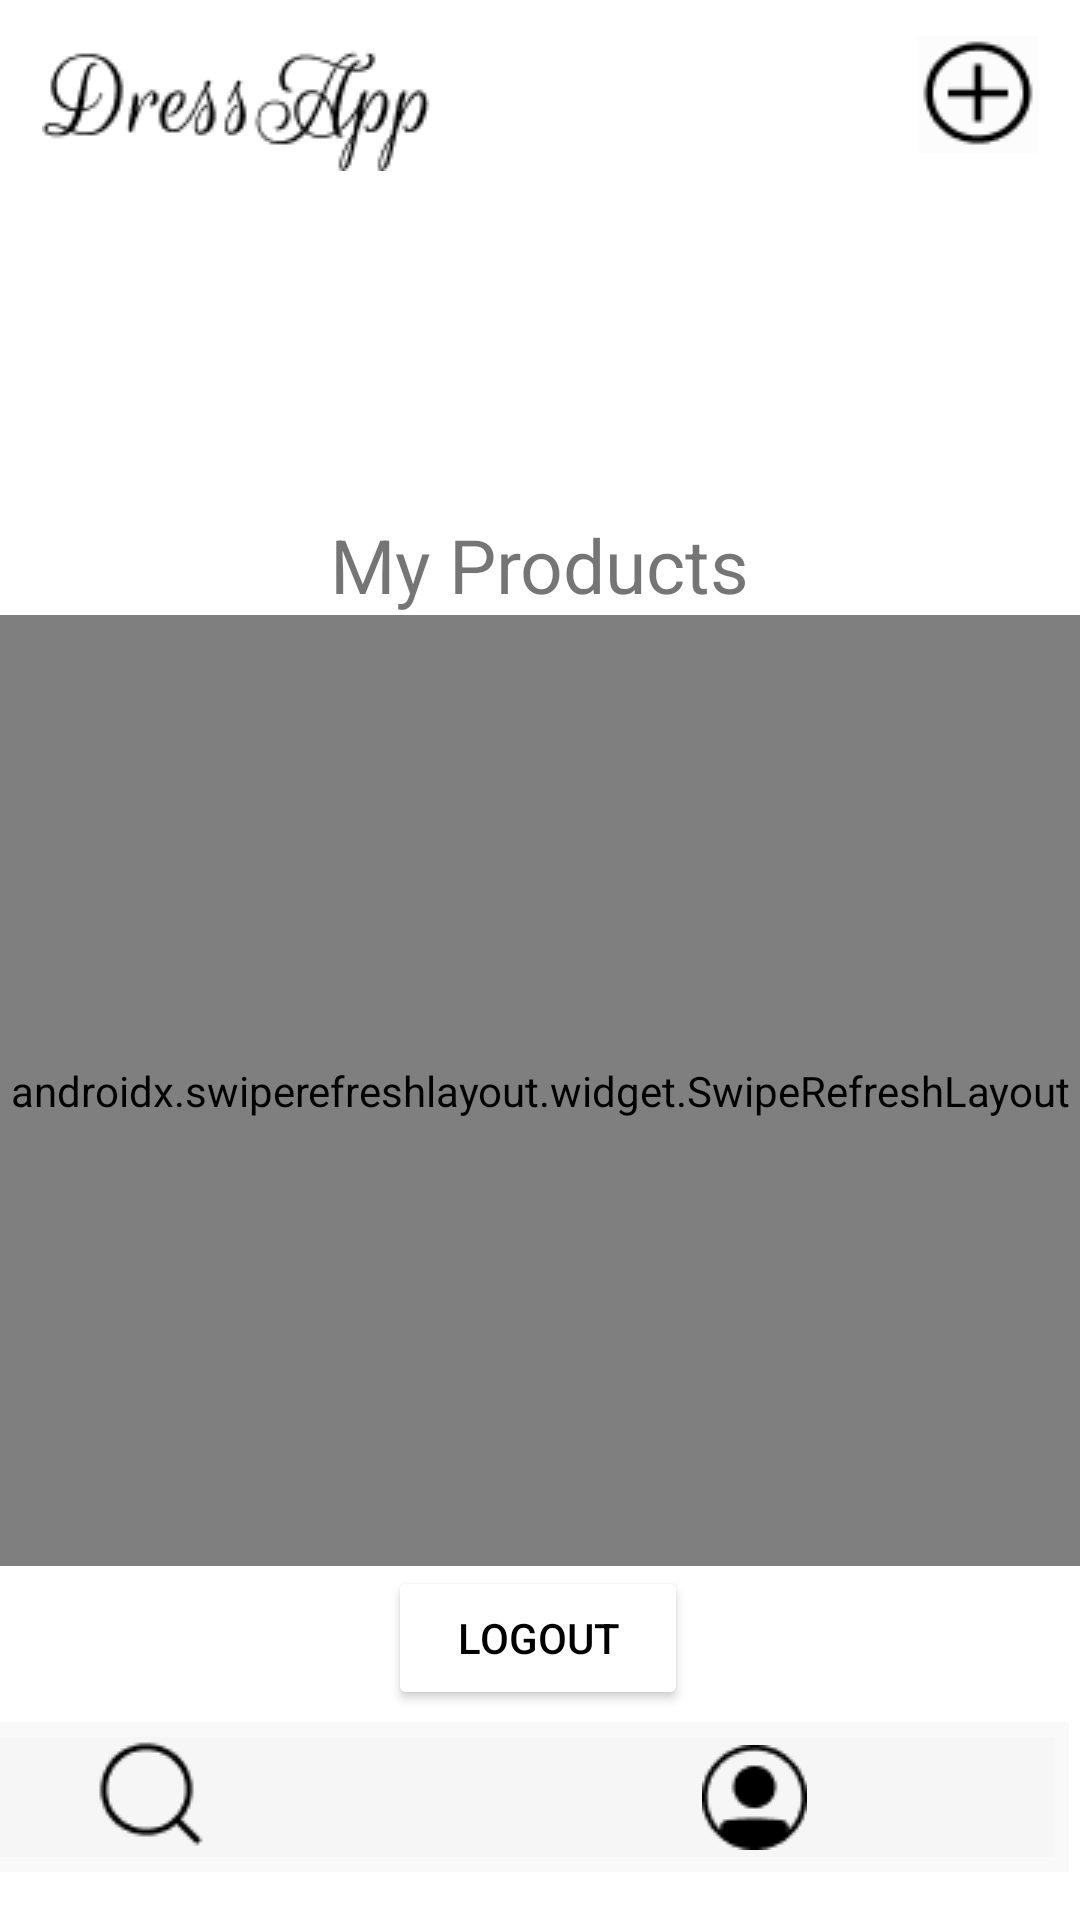

Named icons in this screenshot (1080x1920) and their centers, (x=x, y=y):
add product: (x=978, y=93)
profile: (x=754, y=1797)
